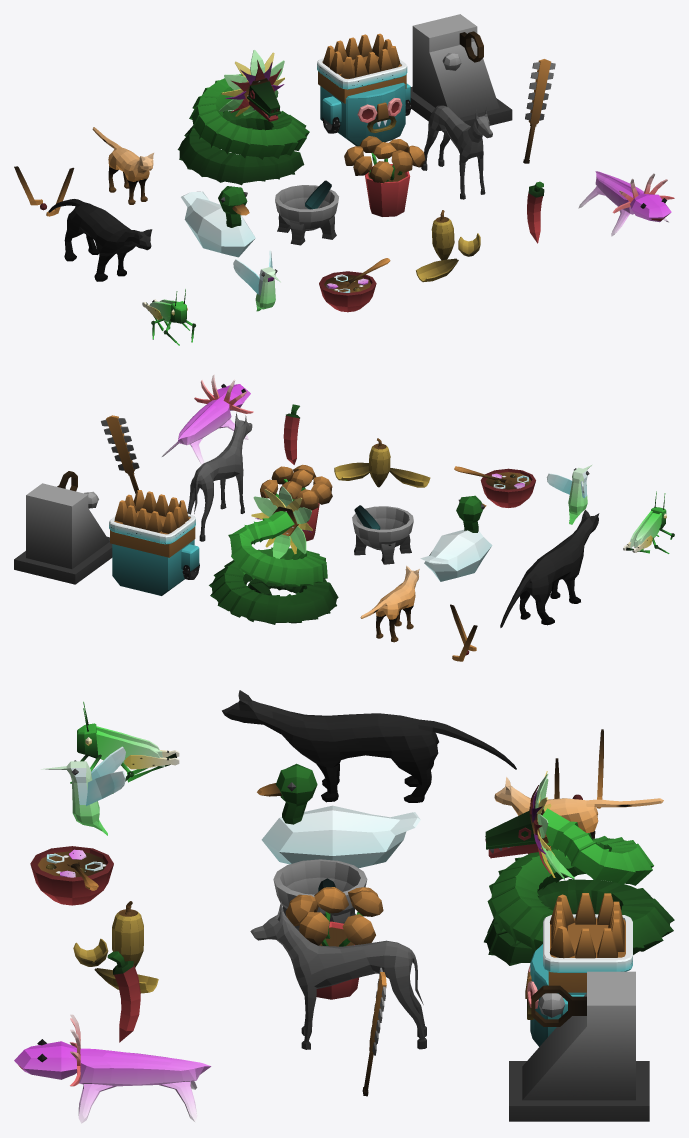
Rendered from Mexica.fbx.
3 views of the same model, one above another, from view 1: azimuth 30°, elevation 25°; view 2: azimuth 150°, elevation 25°; view 3: azimuth 270°, elevation 25° (orthographic). The views are drawn at different scales.
Visible parts, largest first — view 1: MSH_Quetzalcoalt, MSH_Tlaloc, Msh_Jogodupelota, MSH_Chempachil, Msh_Puma, Msh_Pato, MSH_Molcajete, Msh_Xolo, MSH_Axolotl, MSH_Posole, MSH_Cacao, MSH_Ocelote (+5 smaller); view 2: MSH_Quetzalcoalt, MSH_Tlaloc, Msh_Jogodupelota, Msh_Puma, Msh_Pato, MSH_Molcajete, Msh_Xolo, MSH_Axolotl, MSH_Chempachil, MSH_Posole, MSH_Cacao, MSH_Ocelote (+5 smaller); view 3: MSH_Quetzalcoalt, Msh_Jogodupelota, Msh_Puma, Msh_Pato, MSH_Tlaloc, Msh_Xolo, MSH_Axolotl, MSH_Chempachil, MSH_Posole, MSH_Molcajete, Msh_Chapulin, MSH_Colibri (+5 smaller).
Part boxes in pixels (left/top/right/bottom): MSH_Quetzalcoalt: left=177, top=50, right=309, bottom=185; MSH_Tlaloc: left=317, top=33, right=411, bottom=146; Msh_Jogodupelota: left=410, top=14, right=512, bottom=131; MSH_Chempachil: left=344, top=136, right=425, bottom=216; Msh_Puma: left=48, top=199, right=152, bottom=281; Msh_Pato: left=181, top=186, right=255, bottom=257; MSH_Molcajete: left=275, top=180, right=338, bottom=245; Msh_Xolo: left=421, top=105, right=492, bottom=199; MSH_Axolotl: left=578, top=171, right=674, bottom=236; MSH_Posole: left=319, top=258, right=390, bottom=312; MSH_Cacao: left=416, top=210, right=480, bottom=282; MSH_Ocelote: left=92, top=127, right=153, bottom=204; MSH_Quetzalcoalt: left=209, top=486, right=338, bottom=624; MSH_Tlaloc: left=109, top=490, right=199, bottom=595; Msh_Jogodupelota: left=14, top=471, right=112, bottom=584; Msh_Puma: left=500, top=509, right=599, bottom=627; Msh_Pato: left=420, top=495, right=492, bottom=581; MSH_Molcajete: left=352, top=505, right=413, bottom=564; Msh_Xolo: left=187, top=412, right=252, bottom=541; MSH_Axolotl: left=162, top=374, right=253, bottom=464; MSH_Chempachil: left=260, top=464, right=332, bottom=541; MSH_Posole: left=454, top=466, right=535, bottom=507; MSH_Cacao: left=334, top=438, right=430, bottom=487; MSH_Ocelote: left=360, top=565, right=419, bottom=642; MSH_Quetzalcoalt: left=484, top=771, right=674, bottom=965; Msh_Jogodupelota: left=509, top=971, right=649, bottom=1121; Msh_Puma: left=222, top=690, right=516, bottom=802; Msh_Pato: left=257, top=763, right=420, bottom=868; MSH_Tlaloc: left=525, top=893, right=632, bottom=1046; Msh_Xolo: left=250, top=901, right=426, bottom=1049; MSH_Axolotl: left=14, top=1014, right=211, bottom=1123; MSH_Chempachil: left=285, top=887, right=383, bottom=999; MSH_Posole: left=30, top=846, right=113, bottom=905; MSH_Molcajete: left=273, top=859, right=367, bottom=930; Msh_Chapulin: left=70, top=701, right=179, bottom=793; MSH_Colibri: left=41, top=746, right=125, bottom=835.
Bounding box in the file's own units: 1664 × 376 × 1294.
